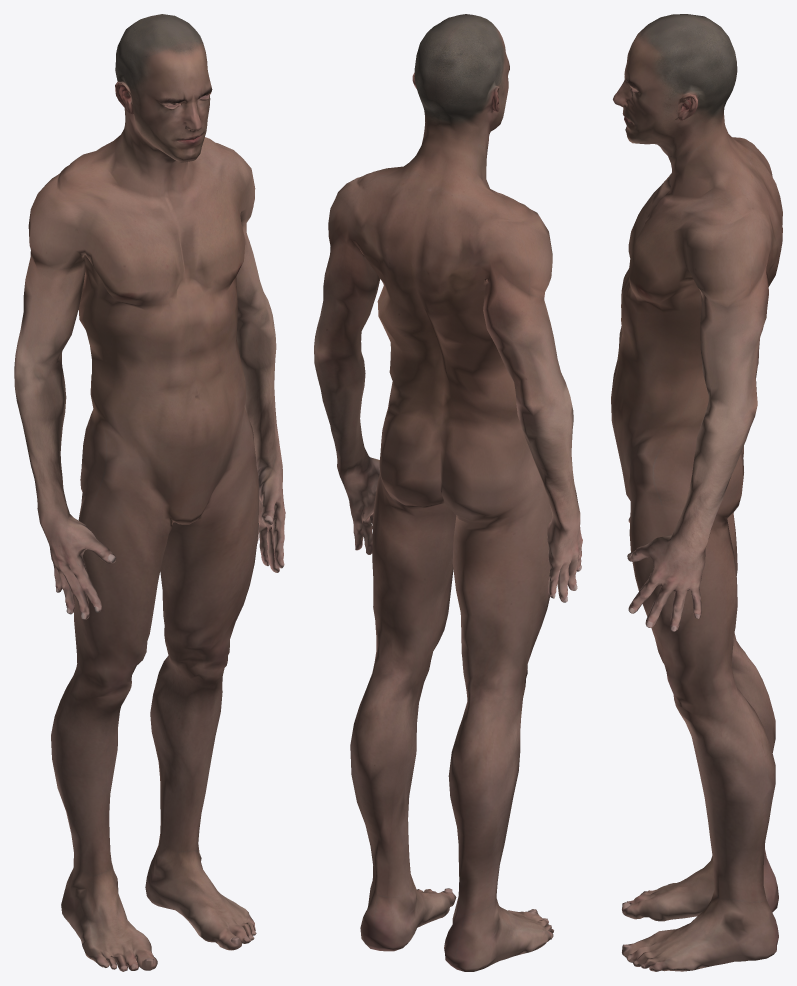
The model's file is breathing_blink02.fbx.
The picture shows the model from 3 angles, left to right: view 1: azimuth 30°, elevation 25°; view 2: azimuth 150°, elevation 25°; view 3: azimuth 270°, elevation 25°; orthographic projection.
Visible parts, largest first — view 1: breathing_BS; view 2: breathing_BS; view 3: breathing_BS.
Part boxes in pixels (box(x1,y1,x2,y2)): breathing_BS: box(14, 14, 285, 971); breathing_BS: box(314, 14, 582, 971); breathing_BS: box(611, 14, 782, 971).
Size of the model in its own units: 26.22 by 91.35 by 15.48.
